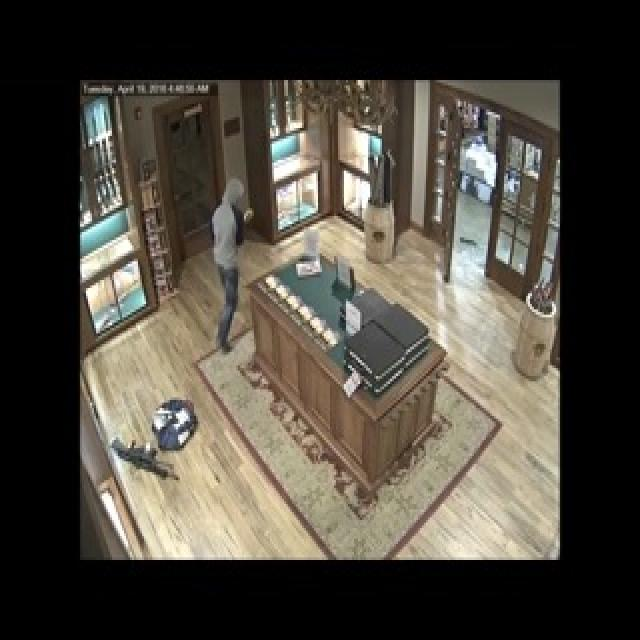thief: (202, 154, 260, 340)
